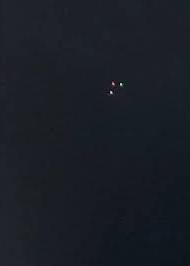Plane: (98, 72, 130, 105)
